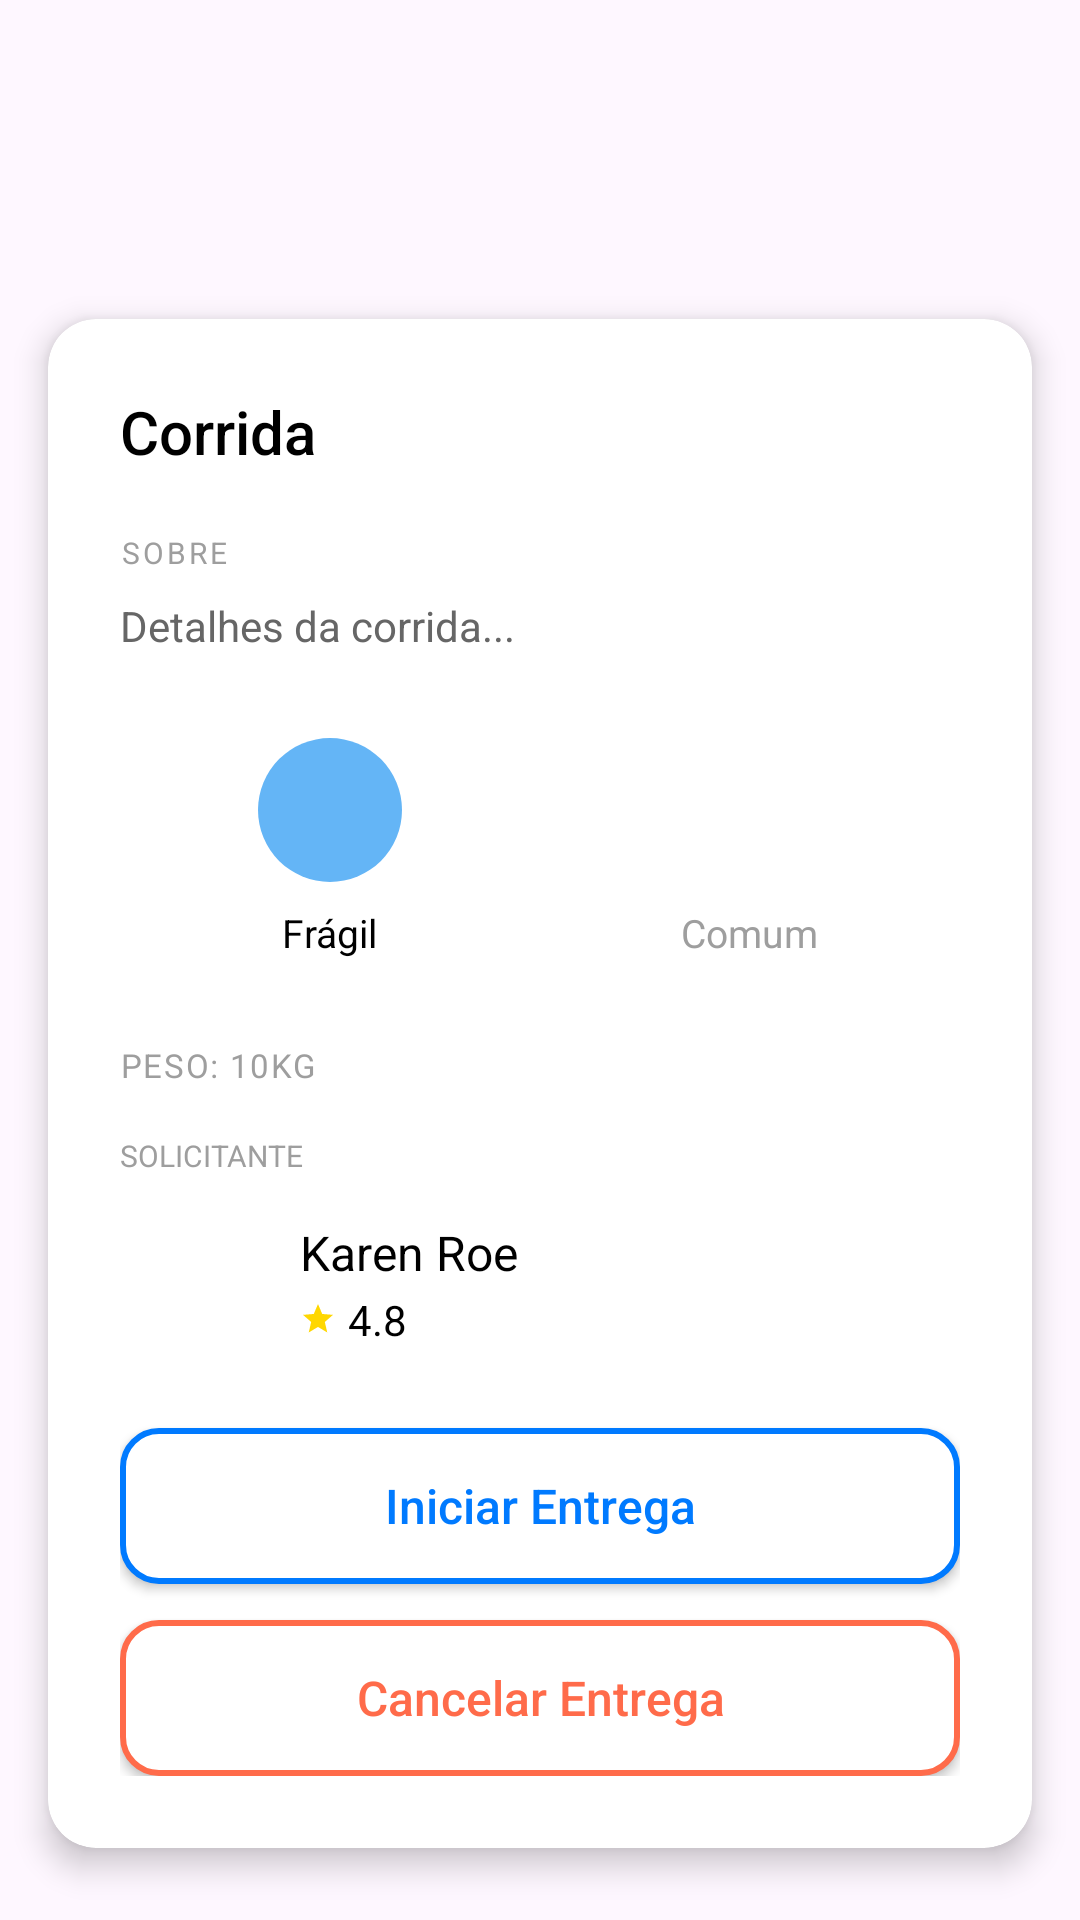

Named icons in this screenshot (1080px×1920px) and their centers, (x,y):
star: (318,1318)
